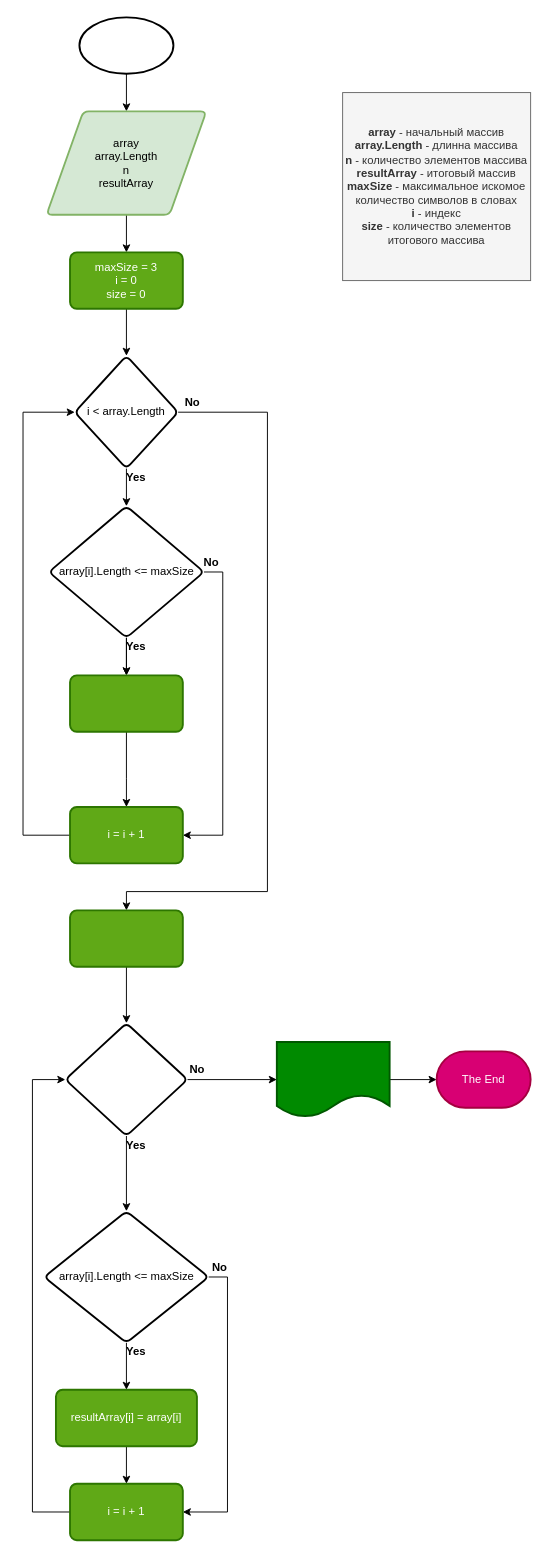
Some shapes in this 548 by 1557 pixel diagram are drawn without their labels. The shapes that lost their labels are listed below. From the top down, each one's box as (x1, y1, x2, y2) in pixels, then its label:
(78, 16, 174, 74): Start
(69, 674, 183, 732): size = size +1
(69, 909, 183, 967): i = 0
(64, 1022, 188, 1136): i < arrayLength
(275, 1041, 390, 1118): resultArray
